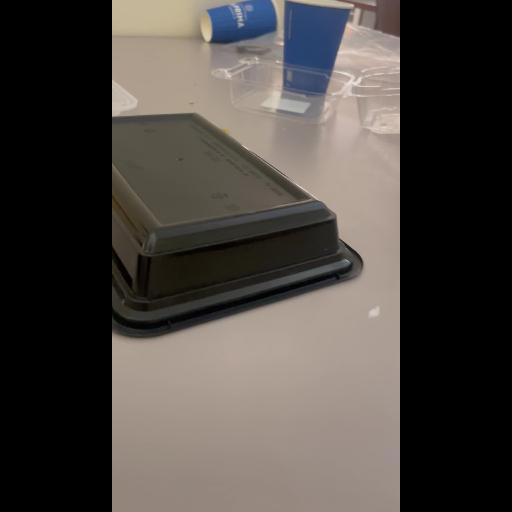lp_paper_cup: (283, 0, 351, 88), (201, 0, 277, 44)
rigid_plastic_container: (112, 117, 356, 329)
